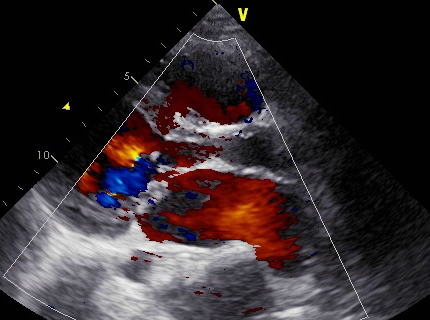AR: (145, 128, 234, 180)
